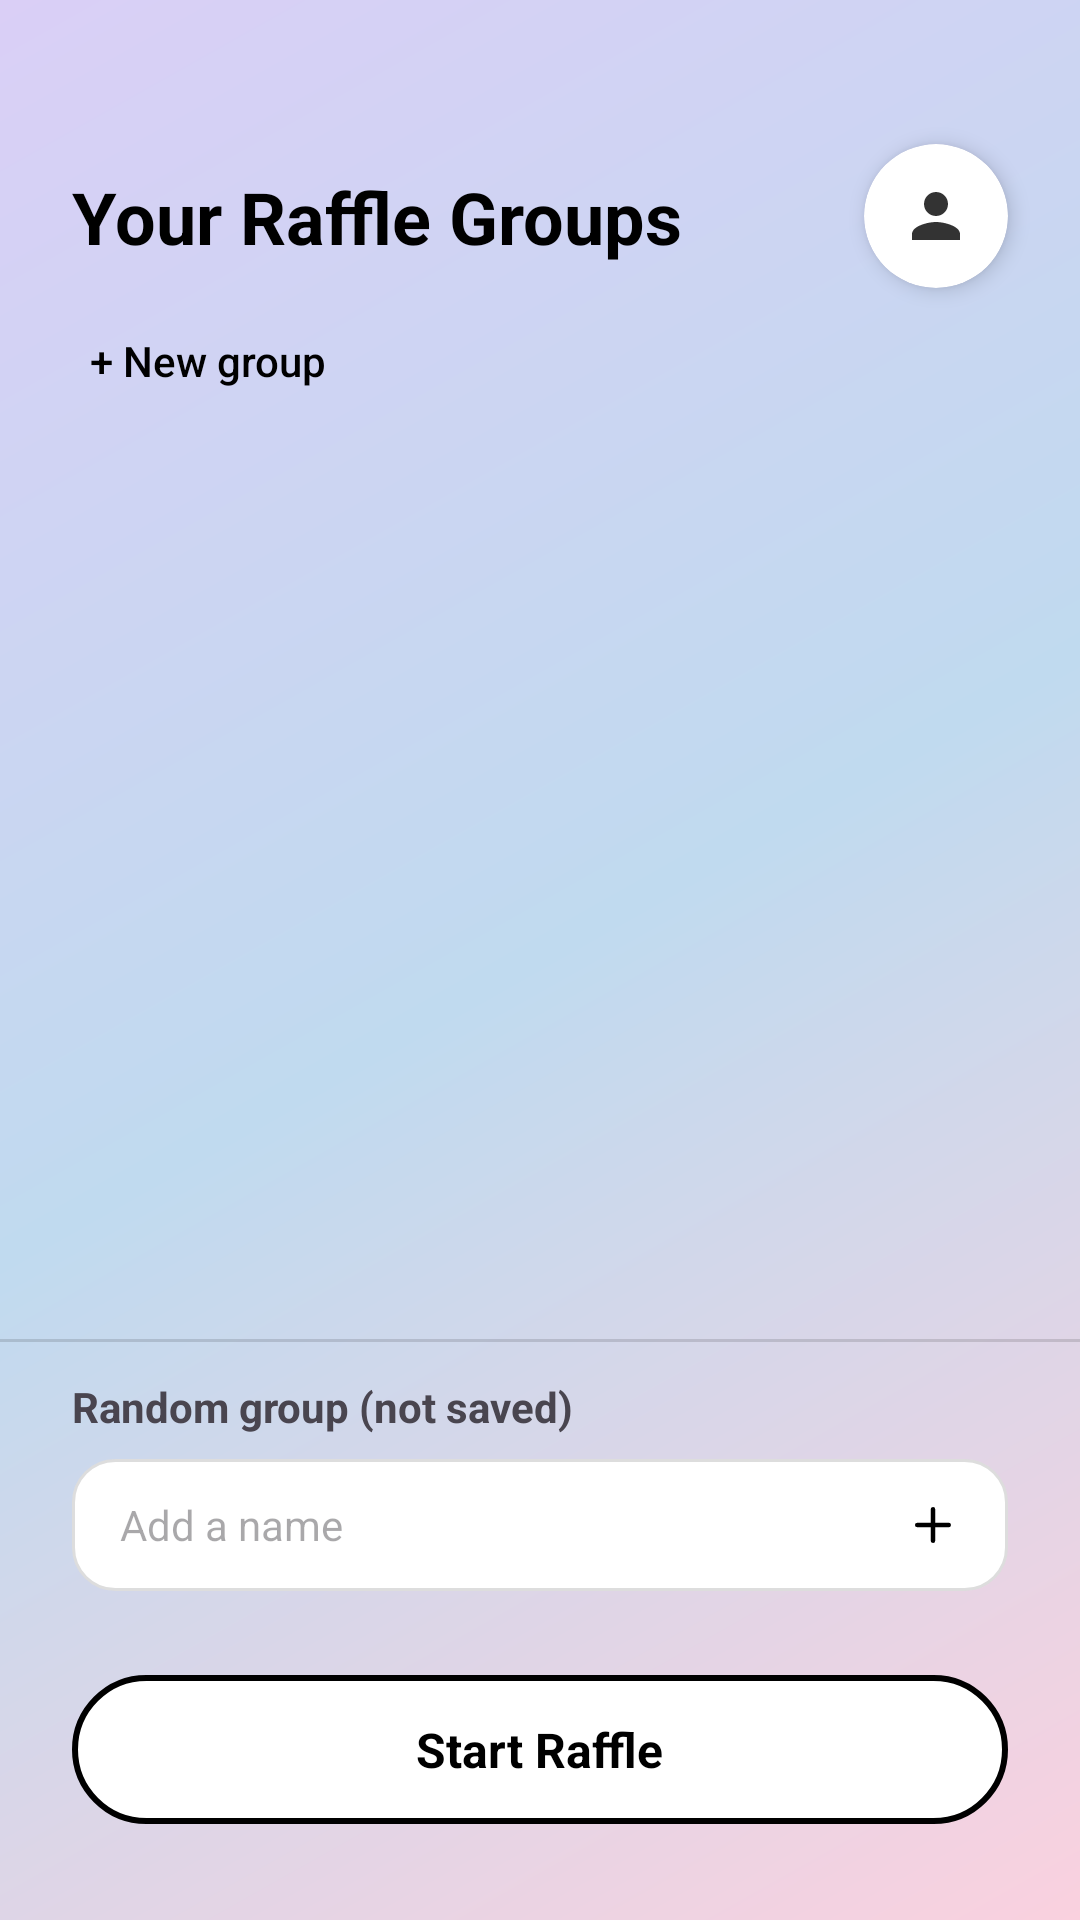

Icon click points for this 1080x1920 phone screenshot, format point (x, y):
profile: point (936, 216)
